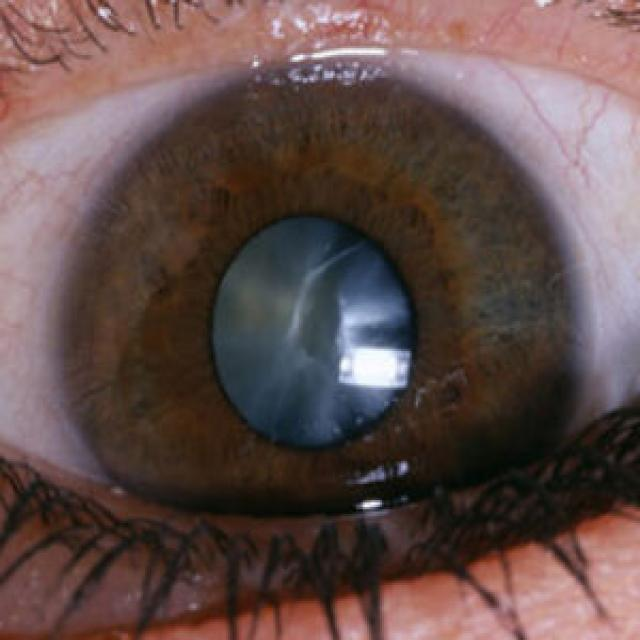Cataract: (49, 41, 578, 590)
